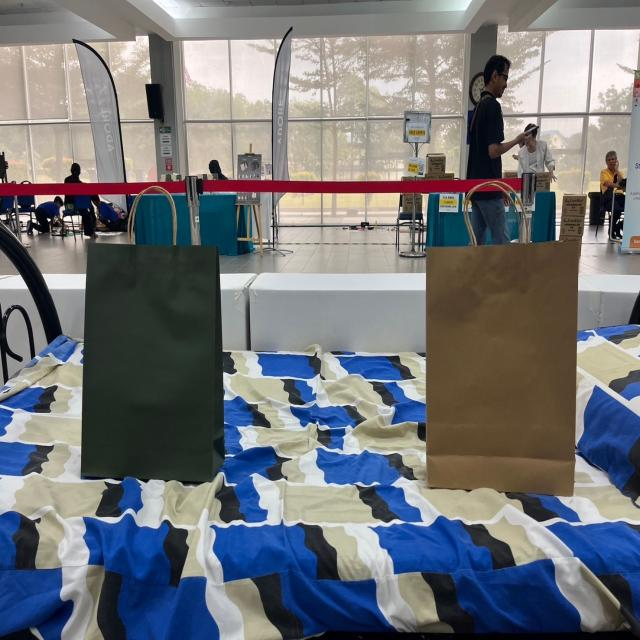bag: (425, 166, 570, 492), (102, 186, 214, 470)
